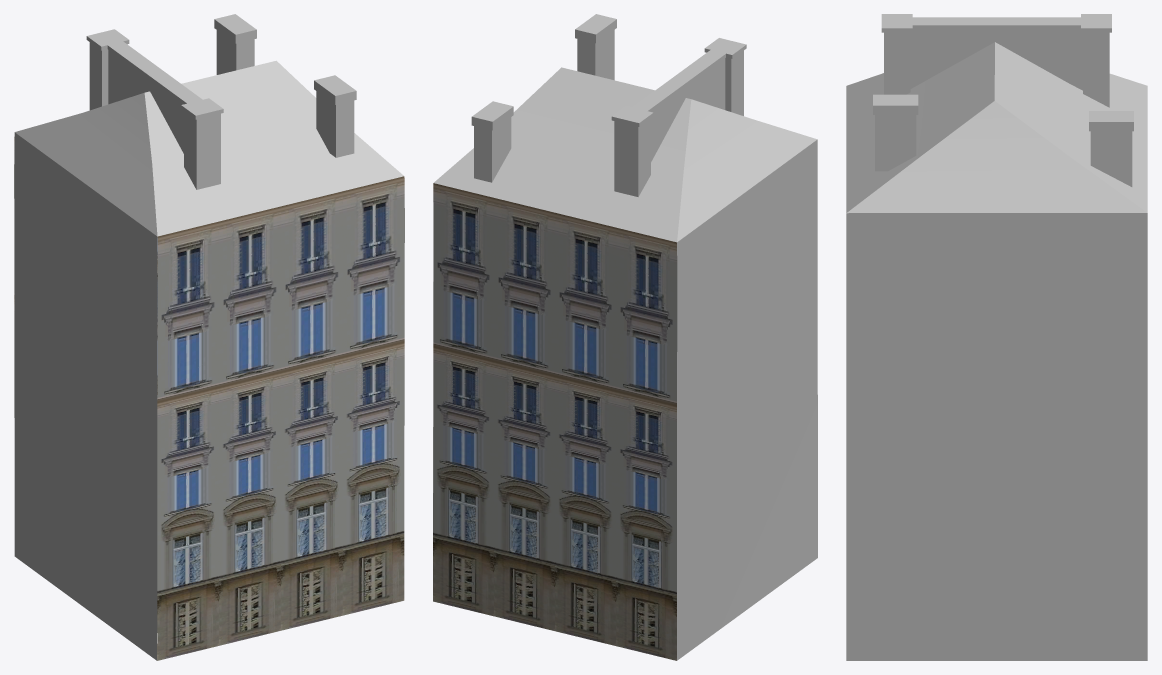
File: LOD01_Builiding_ParisGray.obj
3 renders of one model, left to right at view 1: azimuth 30°, elevation 25°; view 2: azimuth 150°, elevation 25°; view 3: azimuth 270°, elevation 25°, orthographic. The views are drawn at different scales.
Visible parts, largest first — view 1: LOD01_Builiding_ParisGray; view 2: LOD01_Builiding_ParisGray; view 3: LOD01_Builiding_ParisGray.
Part boxes in pixels (x1,y1,x2,y2): LOD01_Builiding_ParisGray: (14, 14, 404, 660); LOD01_Builiding_ParisGray: (433, 14, 817, 660); LOD01_Builiding_ParisGray: (846, 14, 1147, 660).
Size of the model in its own units: 3.91 by 7.83 by 3.9.
